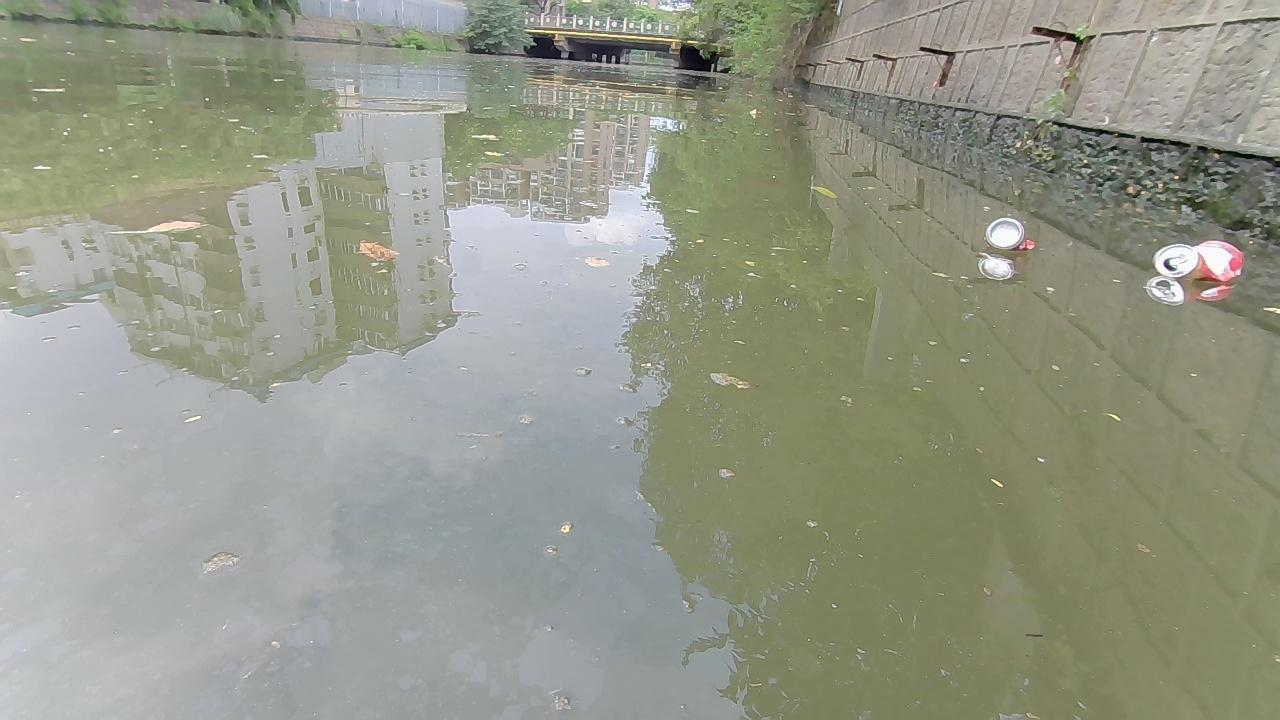bottle: (1151, 238, 1245, 281), (983, 216, 1035, 250)
